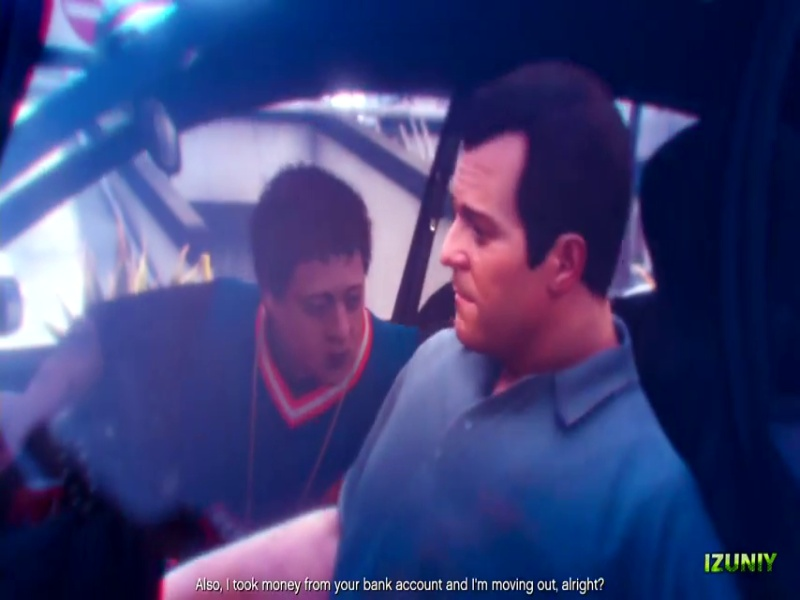licenseplate: (397, 18, 580, 187)
